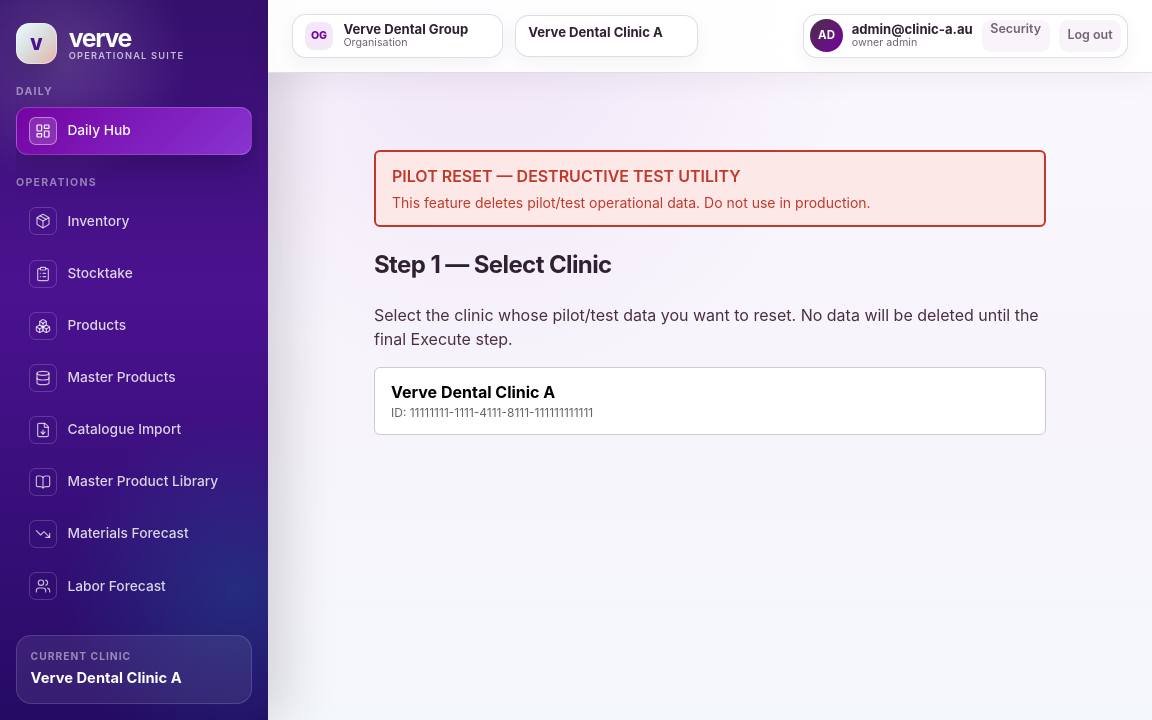
Test: T59: Mode descriptions are correct › shows both mode options with correct descriptions
The width and height of the screenshot is (1152, 720).
# Click the clinic selection button to advance to mode selection
Click the button "Verve Dental Clinic A" at point(473, 392), box [374,367,1046,435]
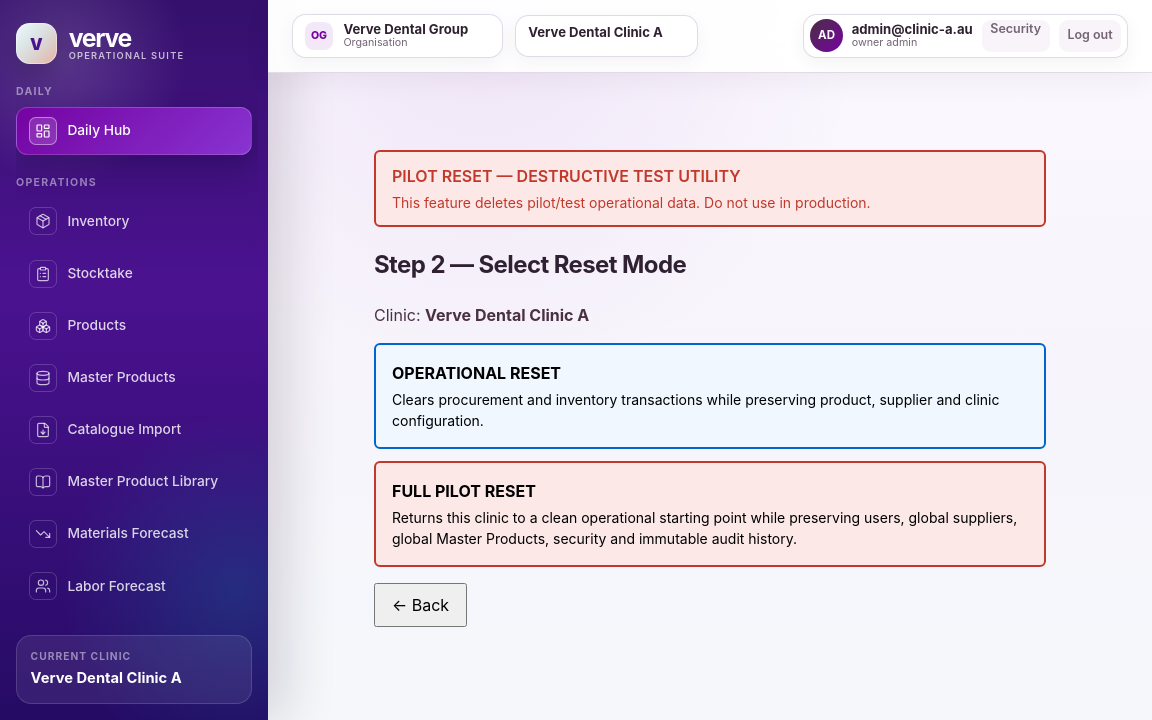
Check: the text "OPERATIONAL RESET" is shown, box [392,363,561,383]
Check: the text "Clears procurement and inventory transactions" is shown, box [392,391,1000,429]
Check: the text "FULL PILOT RESET" is shown, box [392,481,536,501]
